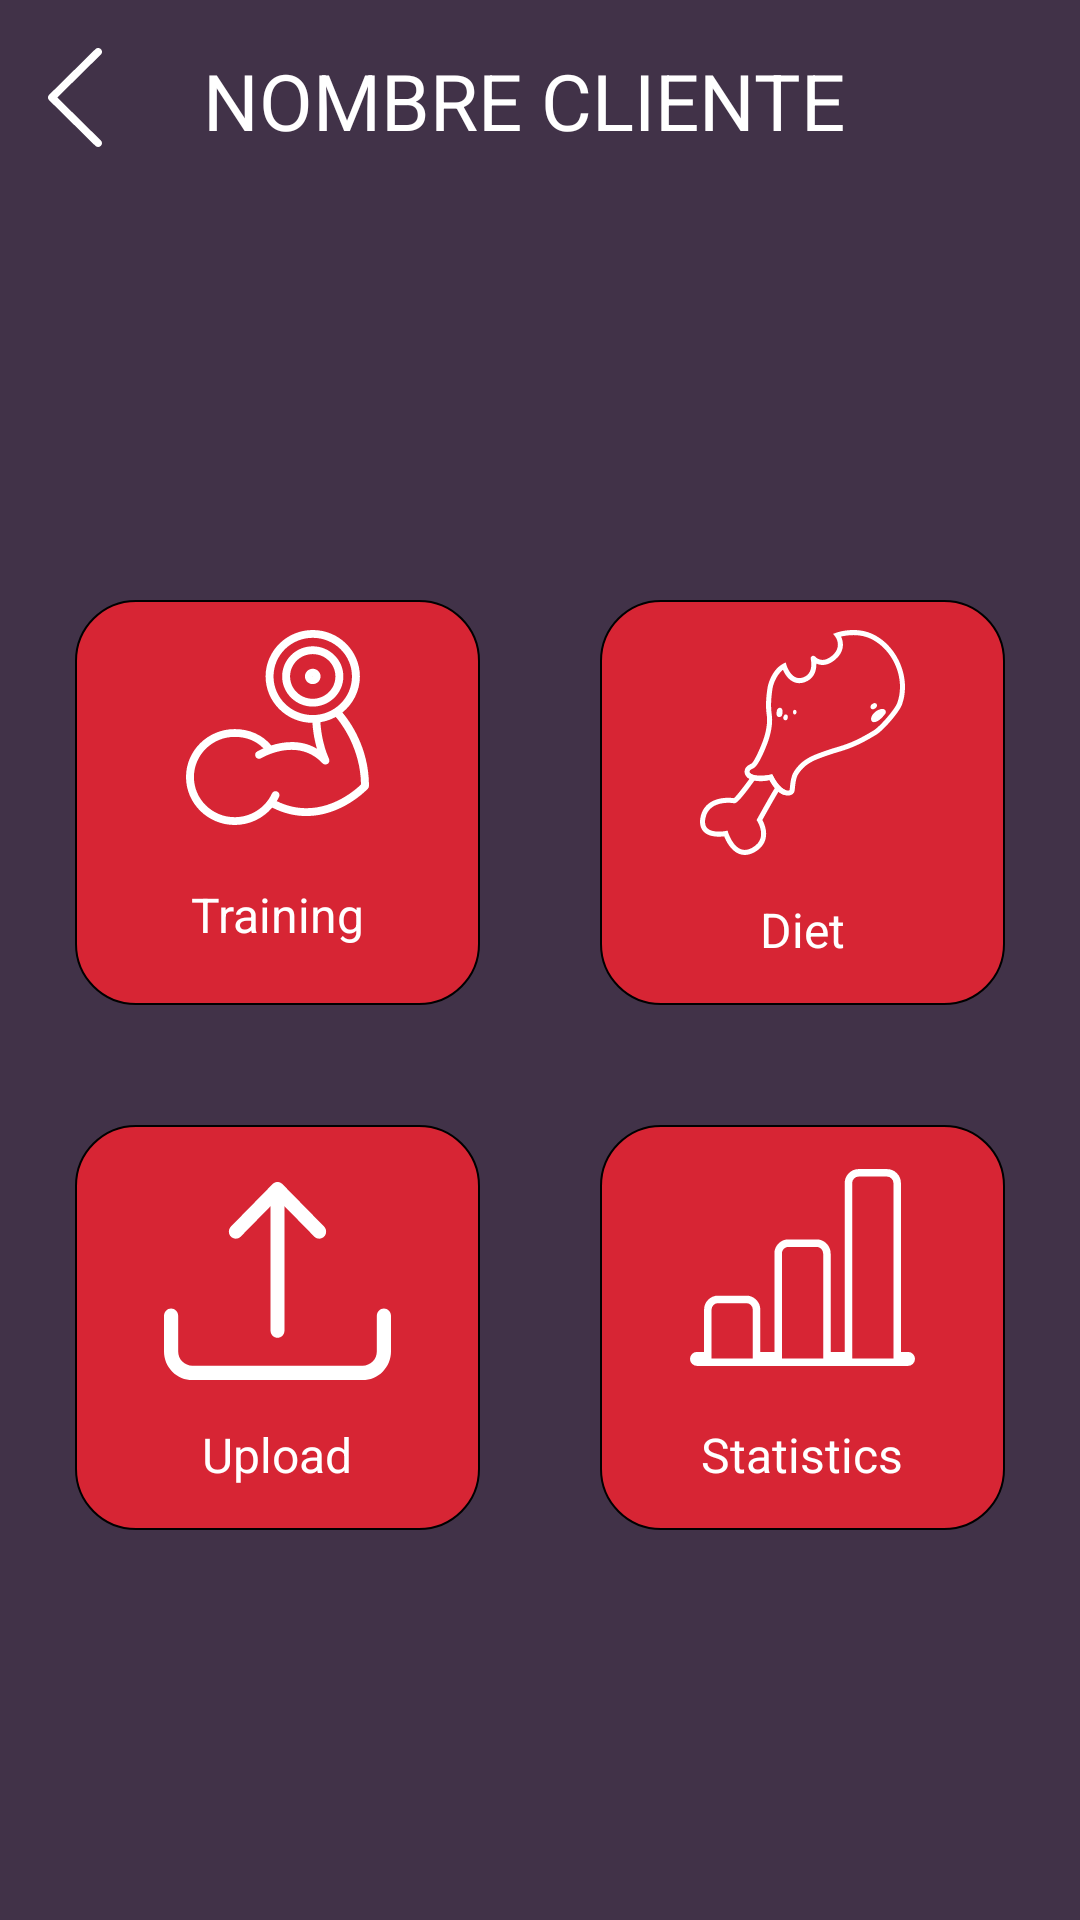

Screen size 1080w x 1920h. Icon name, then its box in pixels as bbox(x1, y1, x2, y2):
back: bbox(48, 48, 102, 147)
